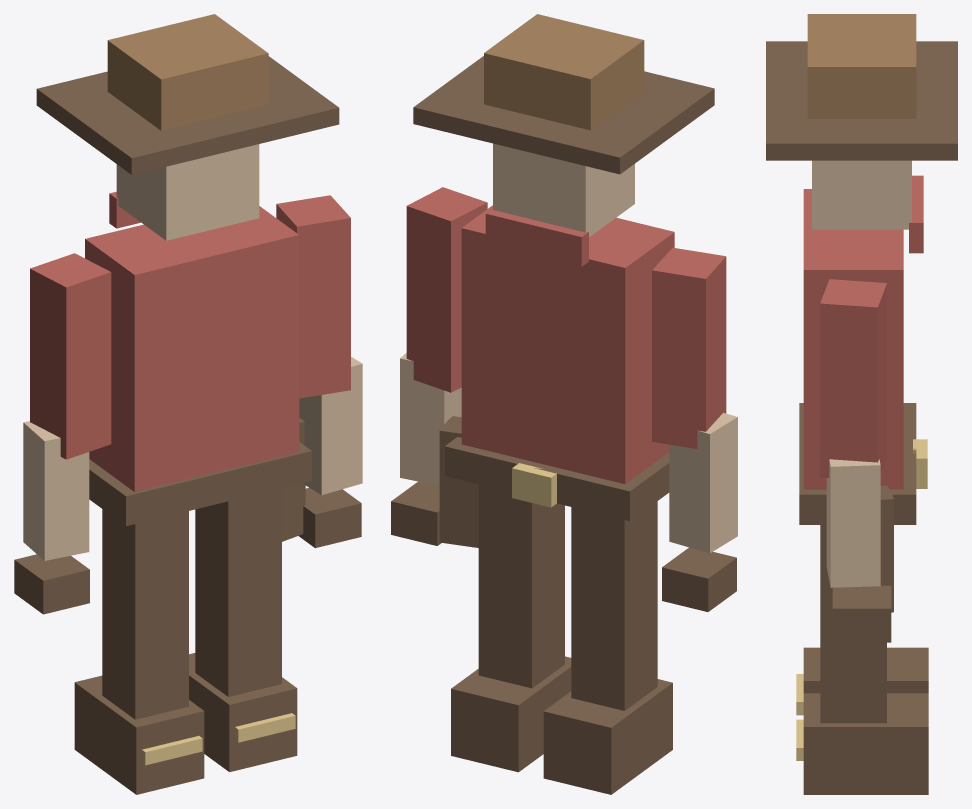
File: cowboy_outlaw.glb
3 views of the same model, side by side, from view 1: azimuth 30°, elevation 25°; view 2: azimuth 150°, elevation 25°; view 3: azimuth 270°, elevation 25° (orthographic).
Parts seen in each view (by area): view 1: cowboy_outlaw_leatherDark, cowboy_outlaw_clothRed, cowboy_outlaw_skin, cowboy_outlaw_leather, cowboy_outlaw_gold; view 2: cowboy_outlaw_leatherDark, cowboy_outlaw_clothRed, cowboy_outlaw_skin, cowboy_outlaw_leather, cowboy_outlaw_gold; view 3: cowboy_outlaw_leatherDark, cowboy_outlaw_clothRed, cowboy_outlaw_skin, cowboy_outlaw_leather, cowboy_outlaw_gold.
Part boxes in pixels (x1,y1,x2,y2): cowboy_outlaw_leatherDark: [14, 56, 361, 794]; cowboy_outlaw_clothRed: [30, 191, 350, 491]; cowboy_outlaw_skin: [23, 144, 362, 560]; cowboy_outlaw_leather: [107, 14, 268, 130]; cowboy_outlaw_gold: [142, 713, 295, 765]; cowboy_outlaw_leatherDark: [391, 56, 736, 794]; cowboy_outlaw_clothRed: [406, 187, 726, 484]; cowboy_outlaw_skin: [400, 143, 737, 553]; cowboy_outlaw_leather: [484, 14, 644, 130]; cowboy_outlaw_gold: [512, 463, 556, 507]; cowboy_outlaw_leatherDark: [766, 41, 957, 794]; cowboy_outlaw_clothRed: [803, 175, 923, 489]; cowboy_outlaw_skin: [812, 160, 911, 587]; cowboy_outlaw_leather: [807, 14, 916, 118]; cowboy_outlaw_gold: [796, 439, 927, 760].
Bounding box in the file's own units: 0.89 × 1.89 × 0.46.
